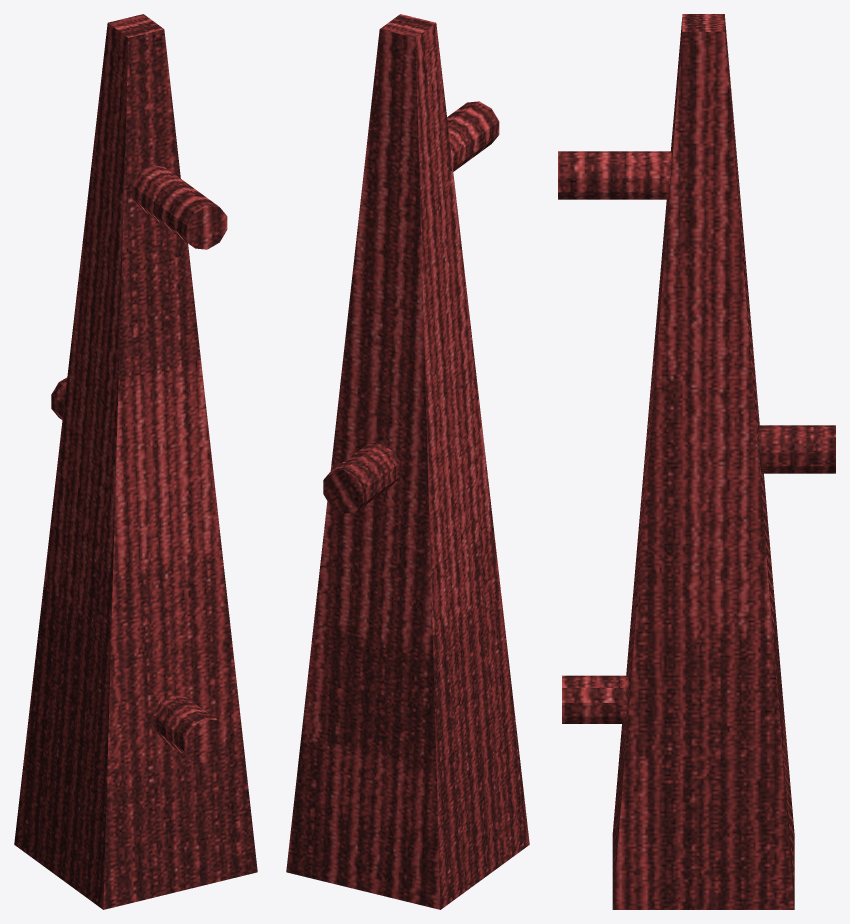
The model's file is Cloth_Wall_2.obj.
The picture shows the model from 3 angles, left to right: view 1: azimuth 30°, elevation 25°; view 2: azimuth 150°, elevation 25°; view 3: azimuth 270°, elevation 25°; orthographic projection.
Parts seen in each view (by area): view 1: Cube; view 2: Cube; view 3: Cube.
Part boxes in pixels (x1,y1,x2,y2): Cube: (14, 14, 257, 909); Cube: (286, 14, 529, 909); Cube: (558, 14, 835, 909).
Size of the model in its own units: 1.63 by 8.39 by 2.49.
1 material, 1 textured.
